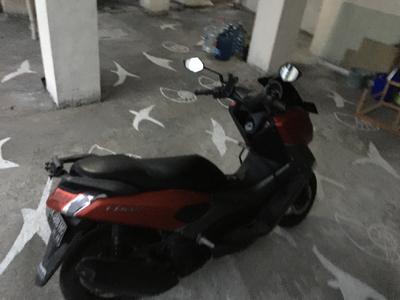moto: (31, 65, 328, 296)
